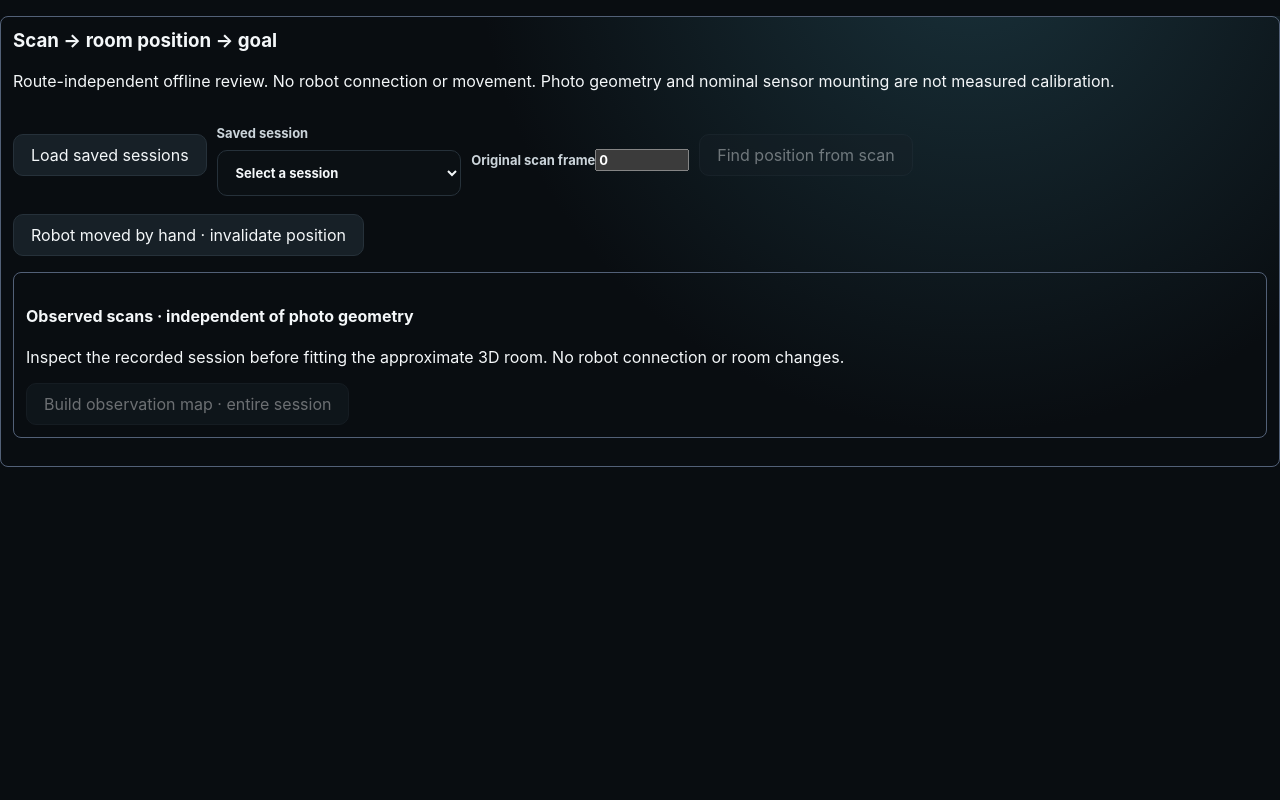
saved scan localization › shows source/timing/candidate and converts without authorizing motion
Step 1. Click the button "Load saved sessions" → [110, 155], box top-left (13, 134), bottom-right (207, 176)
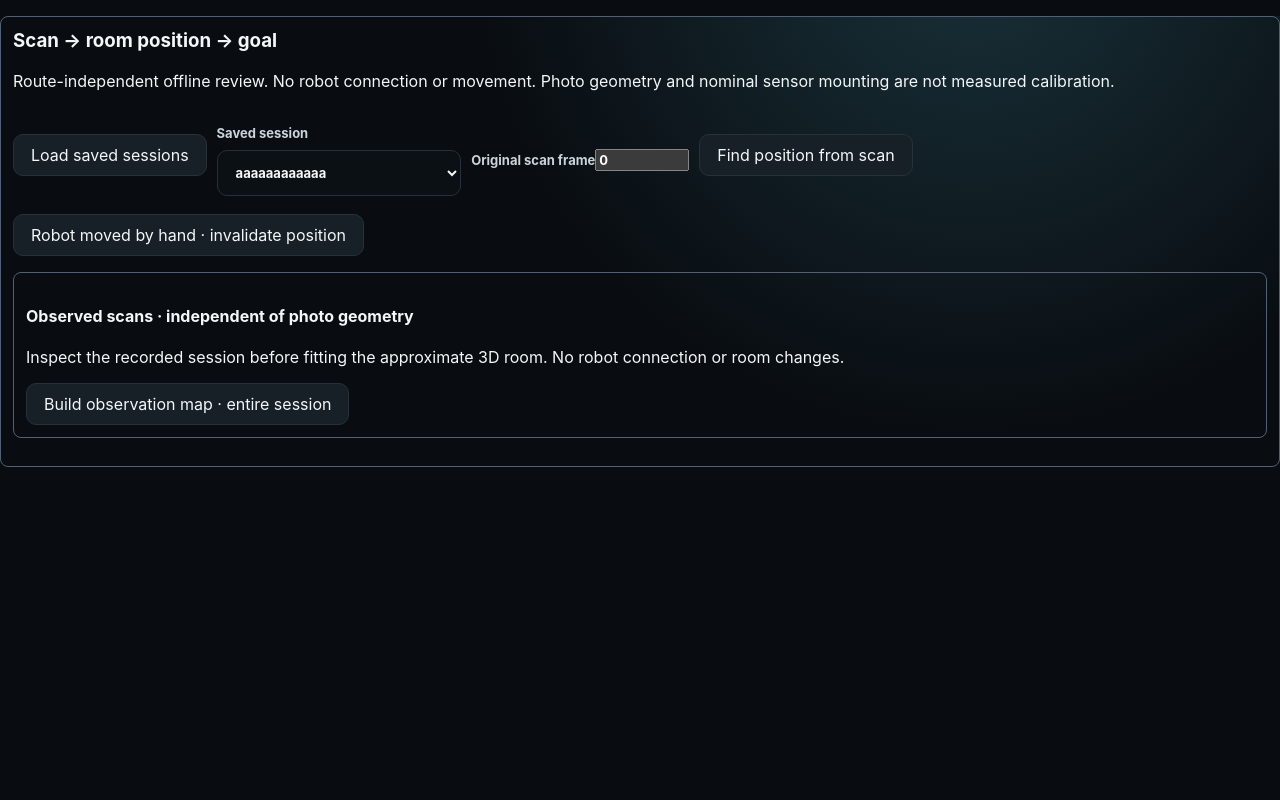
Step 2. Click the button "Find position from scan" → [806, 155], box top-left (699, 134), bottom-right (913, 176)
(page scrolled)
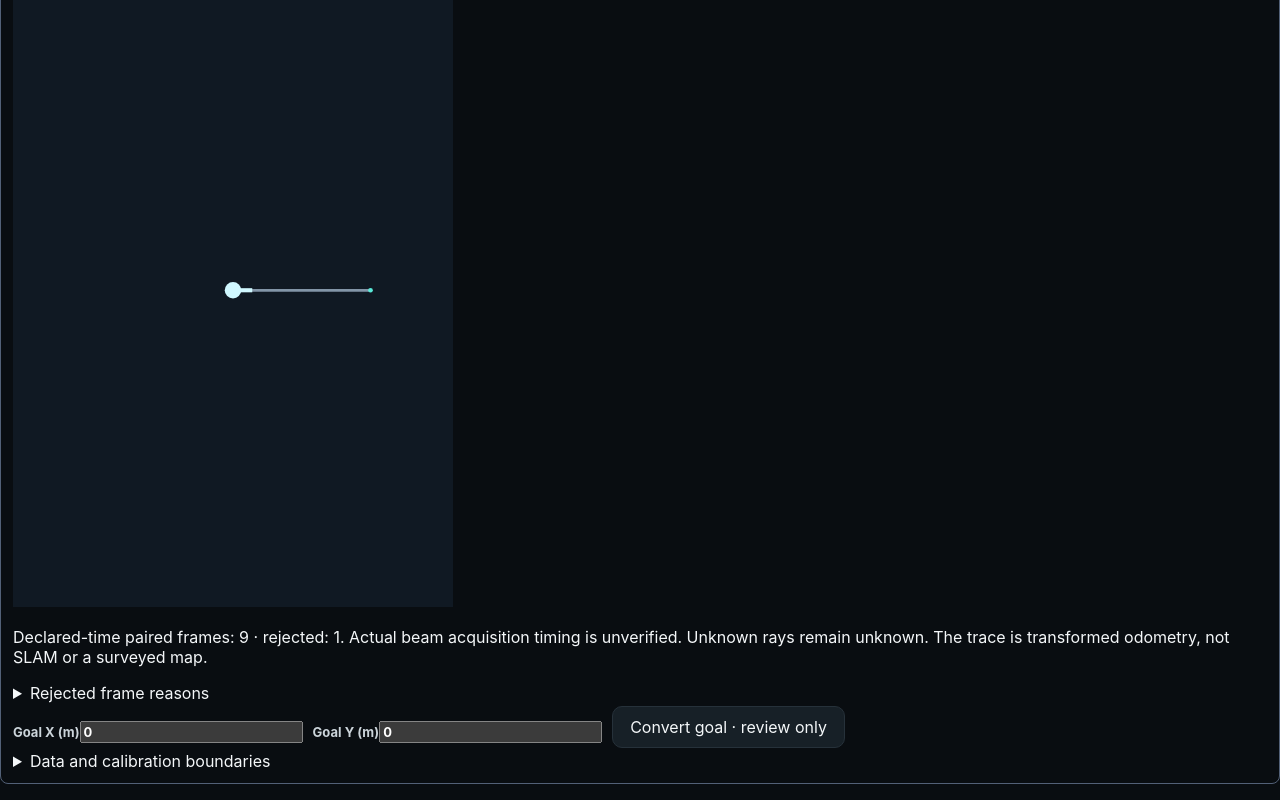
Expected: the text "Declared-time paired frames" shows "rejected: 1", top-left (13, 627), bottom-right (1267, 667)
Step 3. Click the button "Convert goal · review only" → [728, 727], box top-left (612, 706), bottom-right (845, 748)
(page scrolled)
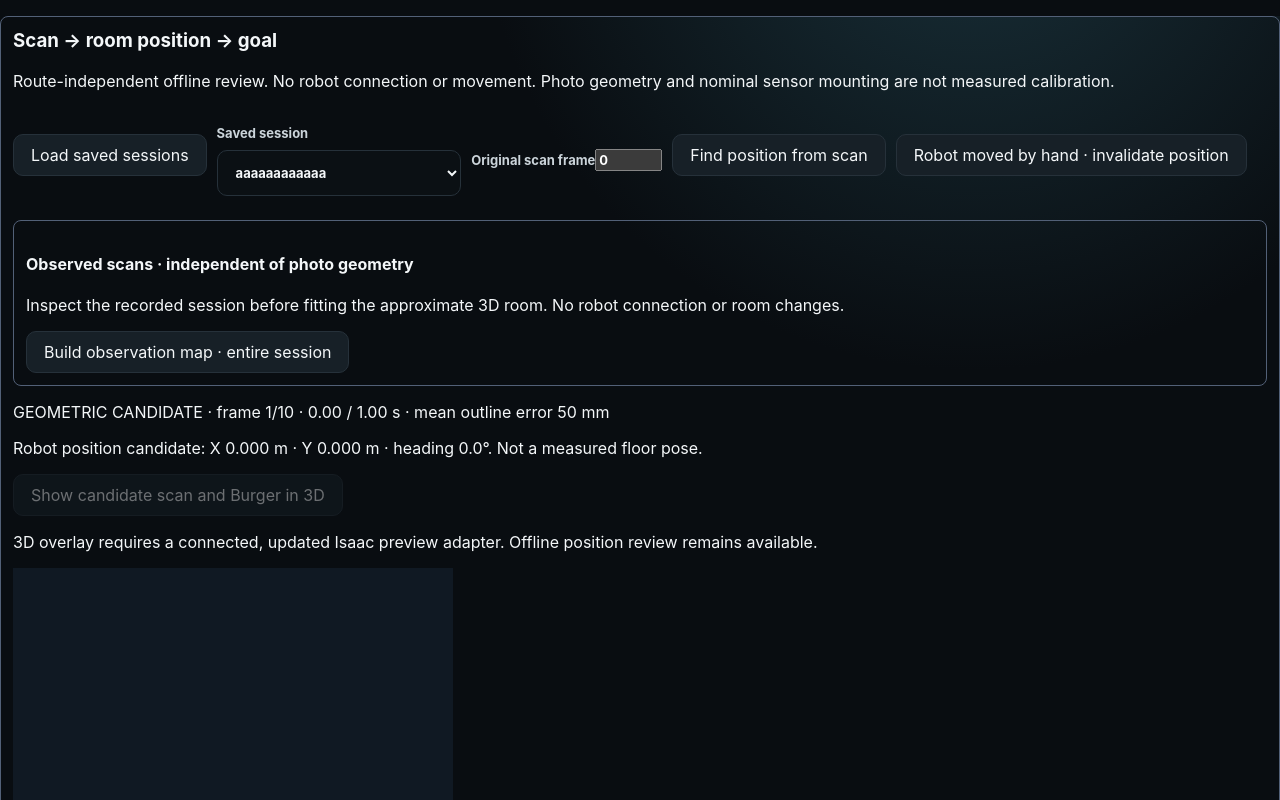
Step 4. Click the button "Robot moved by hand · invalidate position" → [1071, 155], box top-left (896, 134), bottom-right (1247, 176)
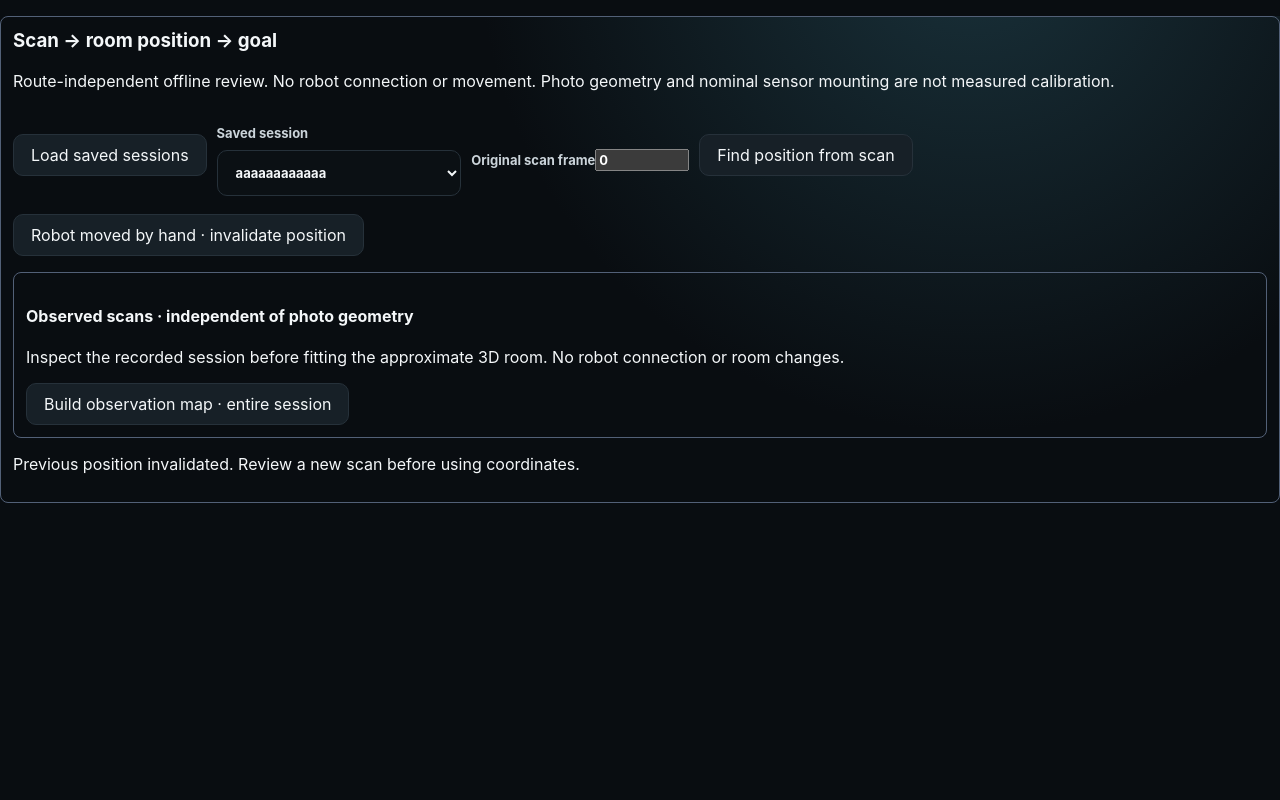
Expected: the text "Previous position invalidated. Review a new scan before using coordinates." is shown, top-left (13, 454), bottom-right (580, 474)
